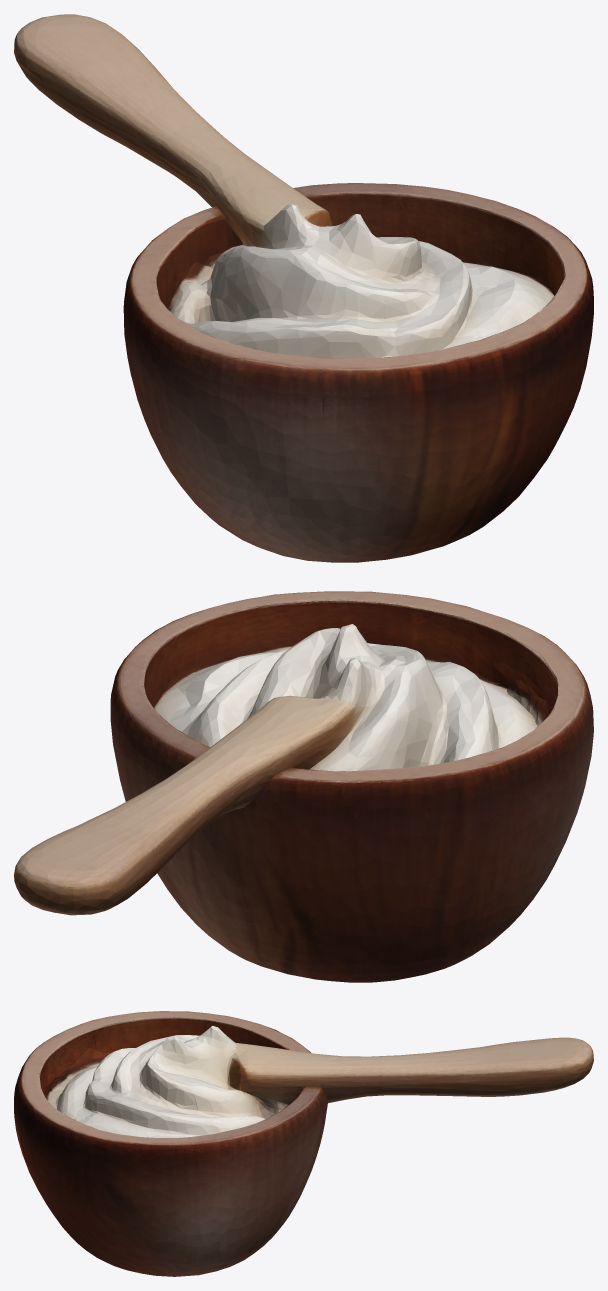
Rendered from curd.glb.
3 renders of one model, top to bottom at view 1: azimuth 30°, elevation 25°; view 2: azimuth 150°, elevation 25°; view 3: azimuth 270°, elevation 25°, orthographic. The views are drawn at different scales.
Parts seen in each view (by area): view 1: world; view 2: world; view 3: world.
Part boxes in pixels (x1,y1,x2,y2): world: (14, 14, 593, 562); world: (14, 591, 593, 982); world: (14, 1011, 593, 1276).
Bounding box in the file's own units: 0.5631 × 0.3892 × 0.9972.
1 material, 1 textured.
